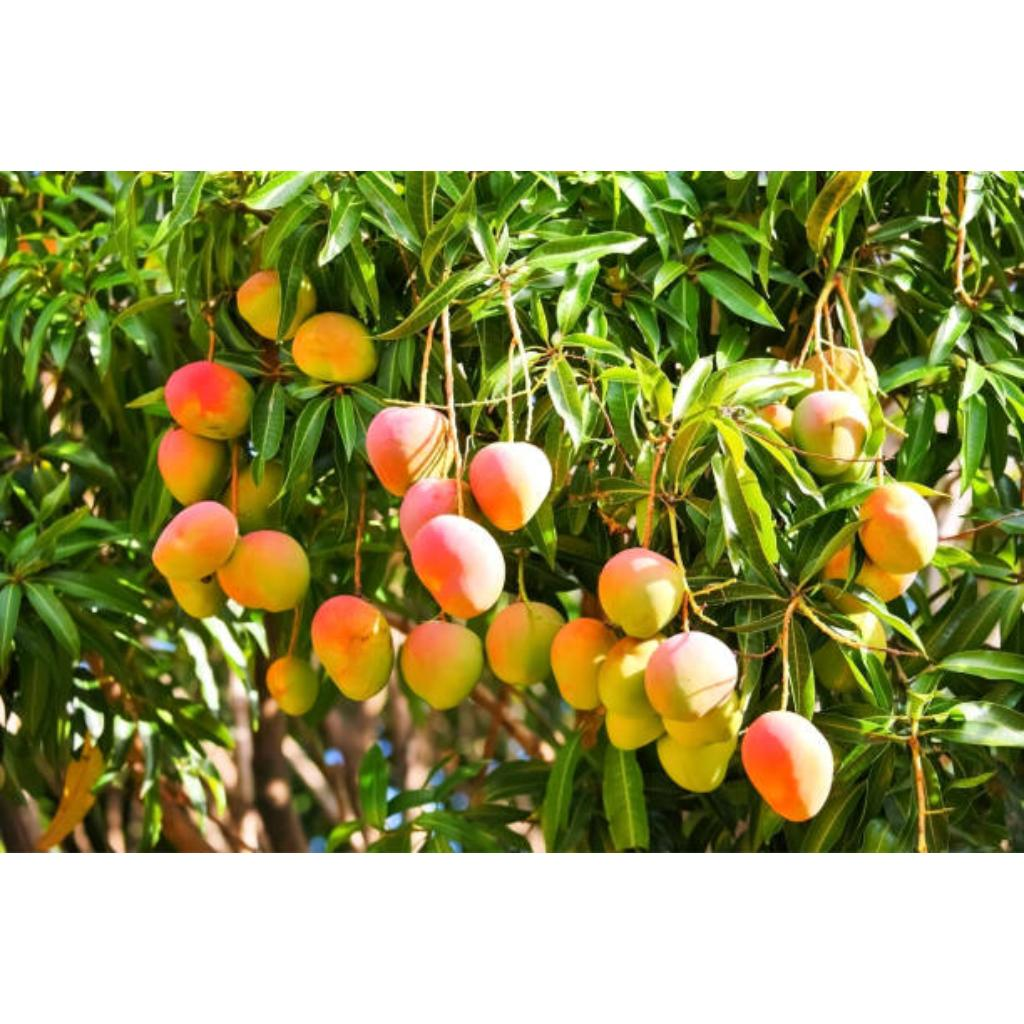mango: (742, 711, 832, 823), (412, 515, 506, 620), (644, 631, 738, 720), (314, 595, 390, 700), (366, 407, 454, 496), (598, 549, 684, 638), (470, 443, 552, 530), (402, 621, 482, 710), (164, 361, 254, 440), (218, 533, 308, 612), (860, 483, 938, 574), (152, 501, 238, 580), (792, 391, 870, 476), (488, 603, 564, 685), (550, 619, 616, 711), (294, 313, 376, 382), (158, 427, 228, 506), (400, 479, 482, 546), (598, 637, 660, 718), (656, 737, 738, 793), (664, 693, 742, 747), (266, 655, 318, 716), (856, 561, 916, 602), (609, 711, 664, 751), (562, 681, 596, 710)
